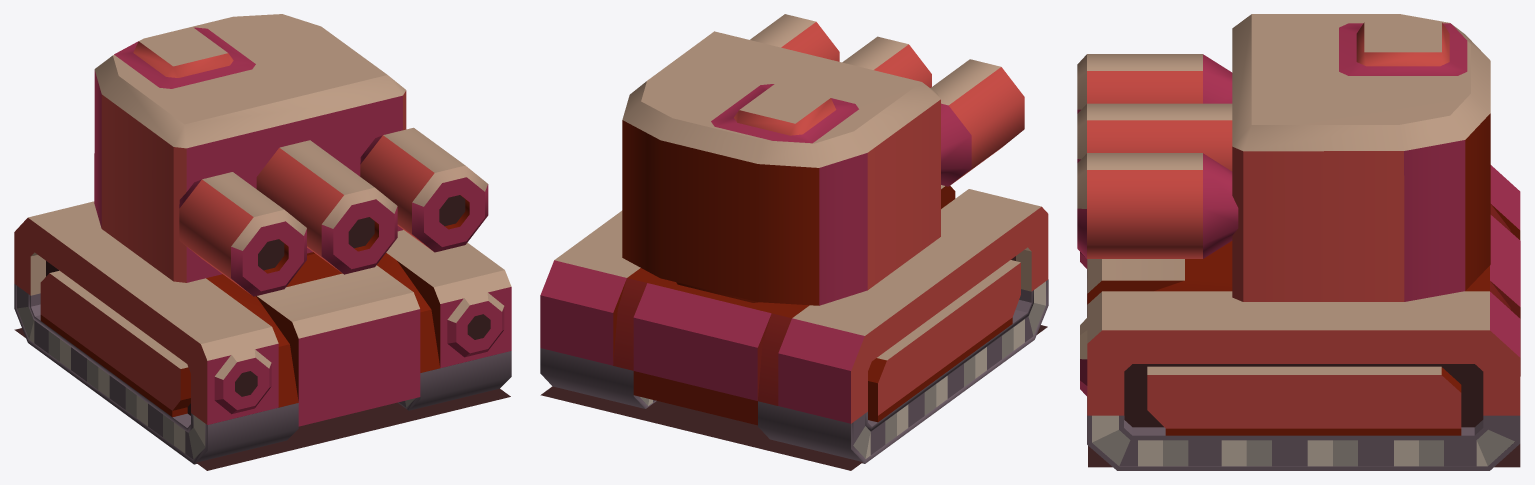
Rendered from MegaTankMesh.RedFire.glb.
The picture shows the model from 3 angles, left to right: view 1: azimuth 30°, elevation 25°; view 2: azimuth 150°, elevation 25°; view 3: azimuth 270°, elevation 25°; orthographic projection. The views are drawn at different scales.
Parts seen in each view (by area): view 1: MegaTankMesh.RedFire; view 2: MegaTankMesh.RedFire; view 3: MegaTankMesh.RedFire.
Boxes of the visible parts, bbox=[...] form: MegaTankMesh.RedFire: bbox=[14, 14, 511, 470]; MegaTankMesh.RedFire: bbox=[540, 14, 1048, 470]; MegaTankMesh.RedFire: bbox=[1077, 14, 1520, 470].
Bounding box in the file's own units: 2 × 1.86 × 2.25.
1 material, 1 textured.
